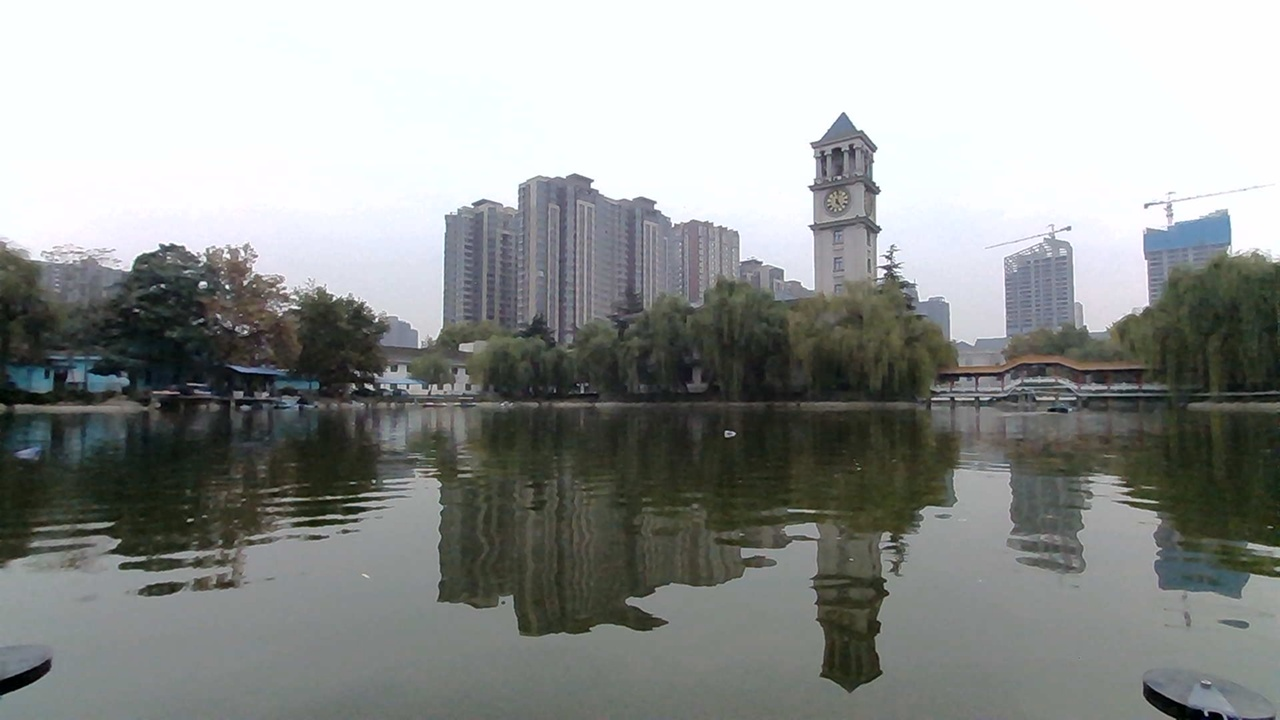bottle: (3, 426, 59, 468), (709, 417, 748, 447)
